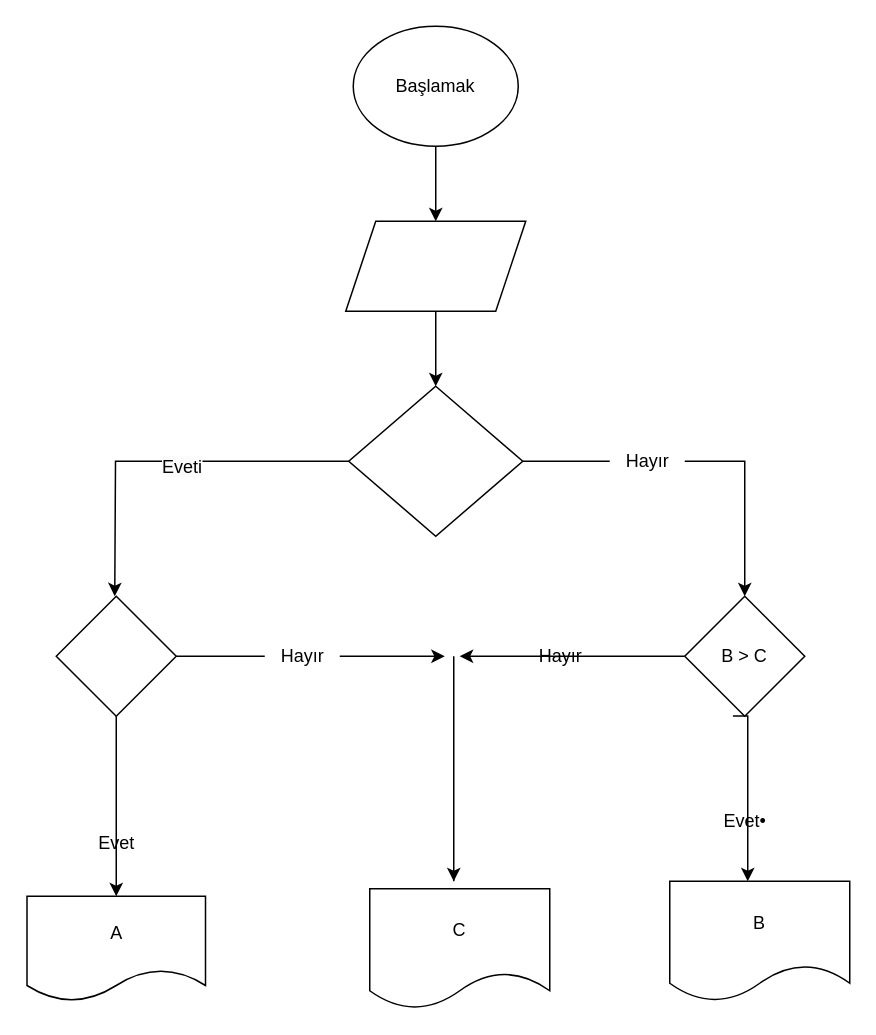
The diagram is 876 pixels wide and 1035 high, and some of its shapes have lost their labels. The centre of each missing label's shape, as x and y in pixels:
"A > B" belongs at pixel 435 460.
"A > C" belongs at pixel 115 655.
"A,B,C" belongs at pixel 435 265.
